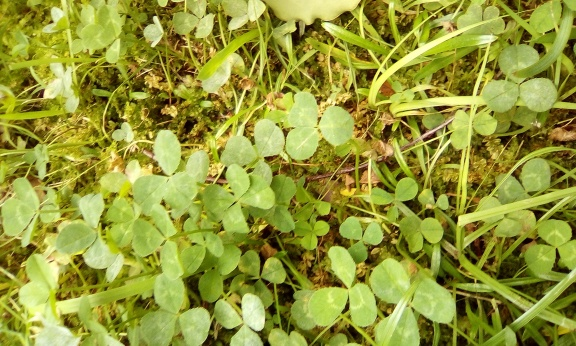4leaf: (201, 163, 275, 234)
